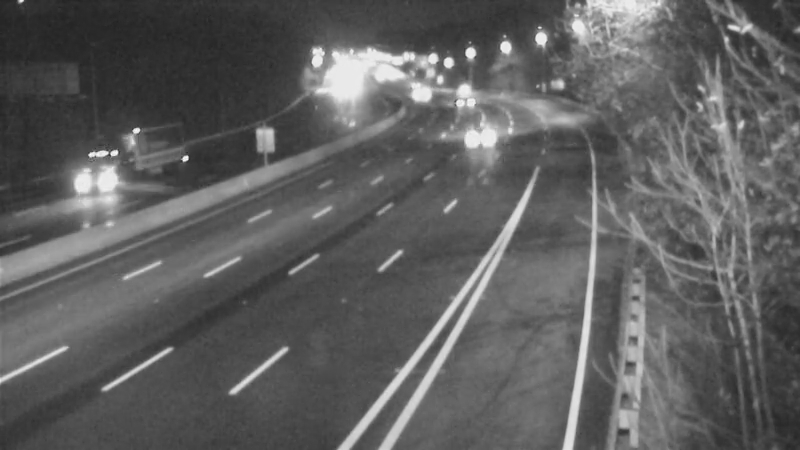vehicle: (43, 147, 123, 227), (393, 64, 443, 114), (438, 65, 488, 115), (456, 117, 506, 167)
